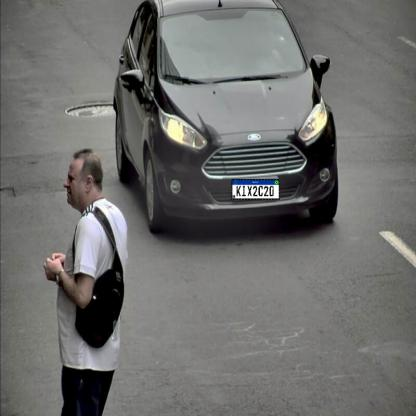PlacaM: (231, 179, 280, 200)
